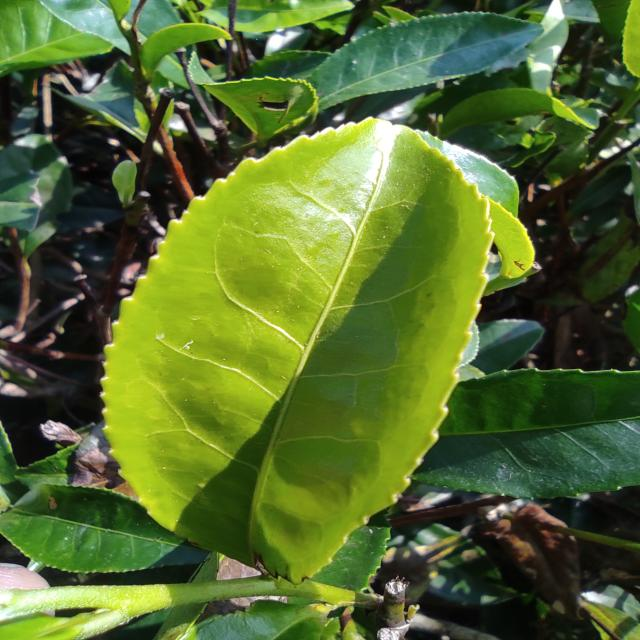Category C(4-7 days): (81, 109, 532, 600)
